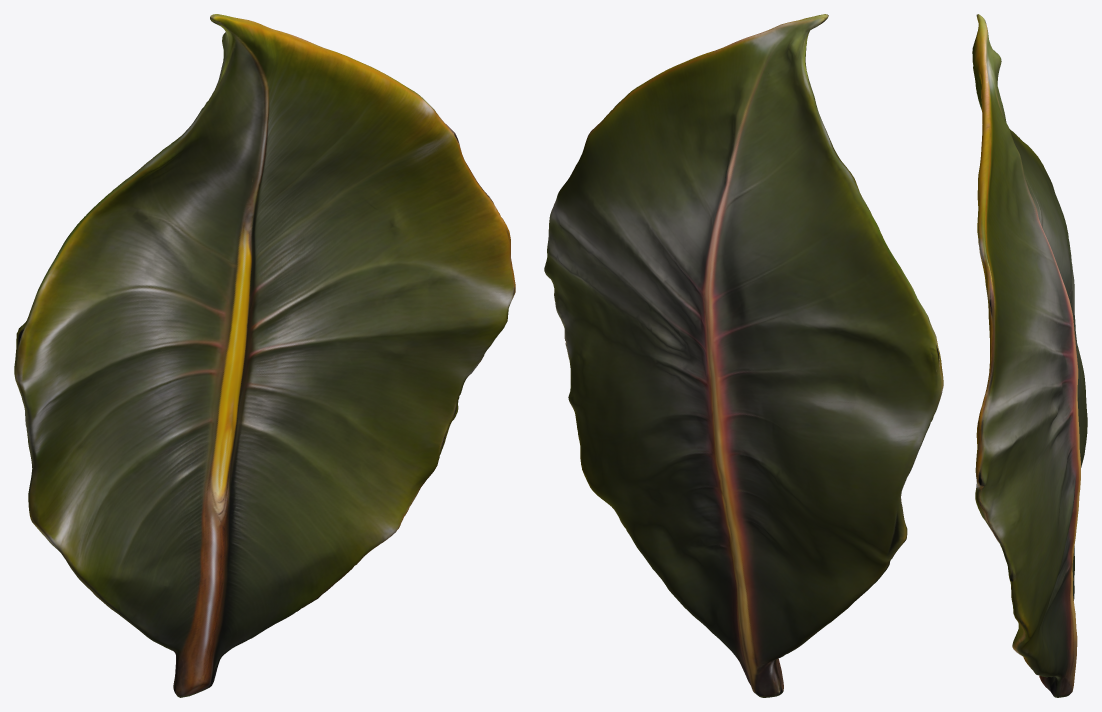
The model's file is AI_BirdOfParadiseLeaf.fbx.
The picture shows the model from 3 angles, left to right: view 1: azimuth 30°, elevation 25°; view 2: azimuth 150°, elevation 25°; view 3: azimuth 270°, elevation 25°; orthographic projection. The views are drawn at different scales.
Visible parts, largest first — view 1: Mesh1; view 2: Mesh1; view 3: Mesh1.
Boxes of the visible parts, x1=… form: Mesh1: x1=14, y1=14, x2=515, y2=697; Mesh1: x1=544, y1=14, x2=943, y2=697; Mesh1: x1=972, y1=14, x2=1087, y2=697.
Bounding box in the file's own units: 136 × 201 × 31.19.
1 material, 1 textured.
